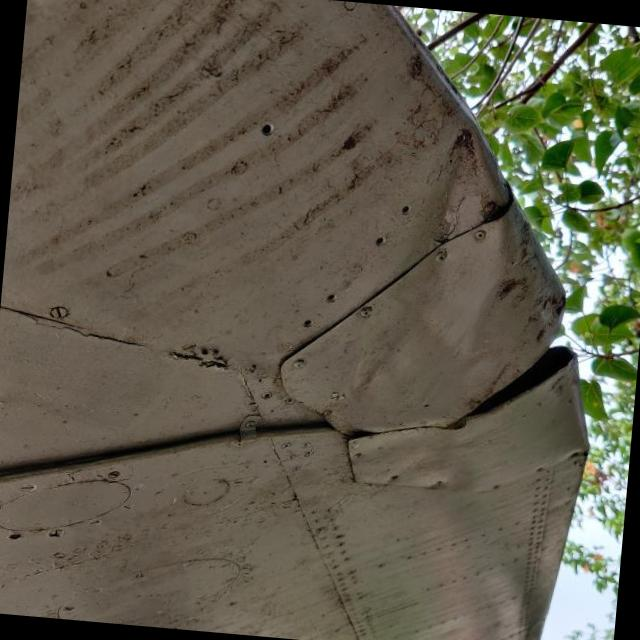Dent: (325, 203, 559, 432)
